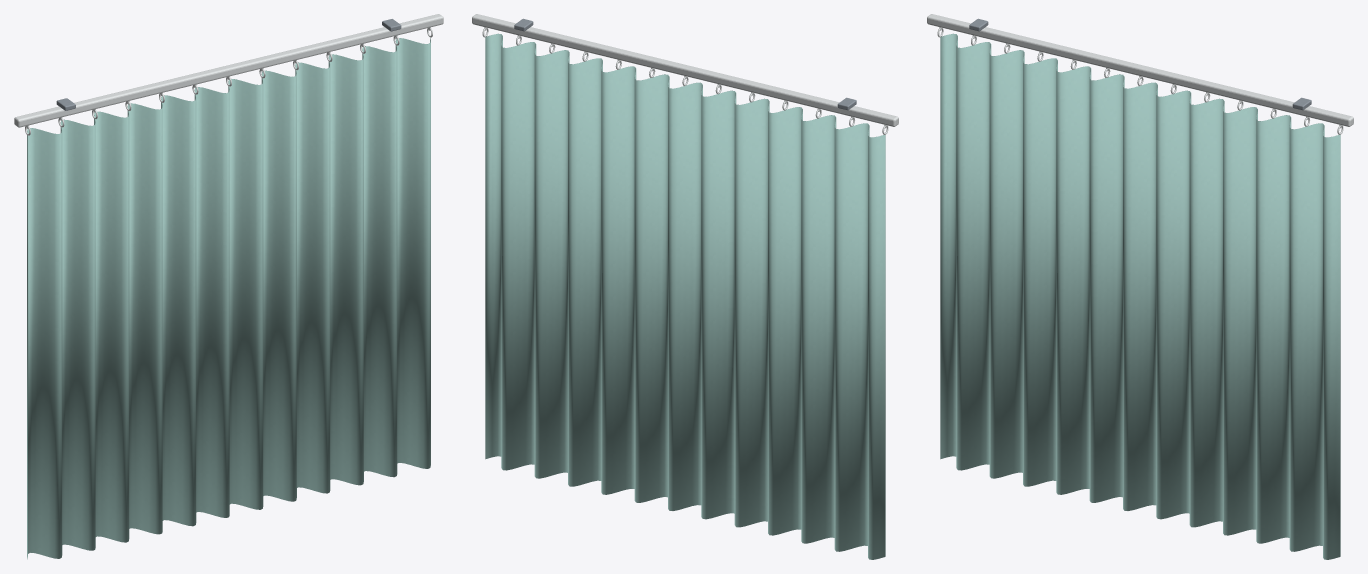
The model's file is privacy-curtain-and-ceiling-track.glb.
3 views of the same model, side by side, from view 1: azimuth 30°, elevation 25°; view 2: azimuth 150°, elevation 25°; view 3: azimuth 330°, elevation 25° (orthographic).
Parts seen in each view (by area): view 1: Pleated privacy textile, Ceiling curtain track; view 2: Pleated privacy textile, Ceiling curtain track; view 3: Pleated privacy textile, Ceiling curtain track.
Part boxes in pixels (x1=…): Pleated privacy textile: x1=27, y1=37, x2=430, y2=559; Ceiling curtain track: x1=14, y1=14, x2=443, y2=127; Pleated privacy textile: x1=485, y1=33, x2=885, y2=559; Ceiling curtain track: x1=472, y1=14, x2=898, y2=126; Pleated privacy textile: x1=940, y1=33, x2=1340, y2=559; Ceiling curtain track: x1=927, y1=14, x2=1353, y2=126.
Bounding box in the file's own units: 2.33 × 2.34 × 0.1317.
3 materials, 3 textured.
